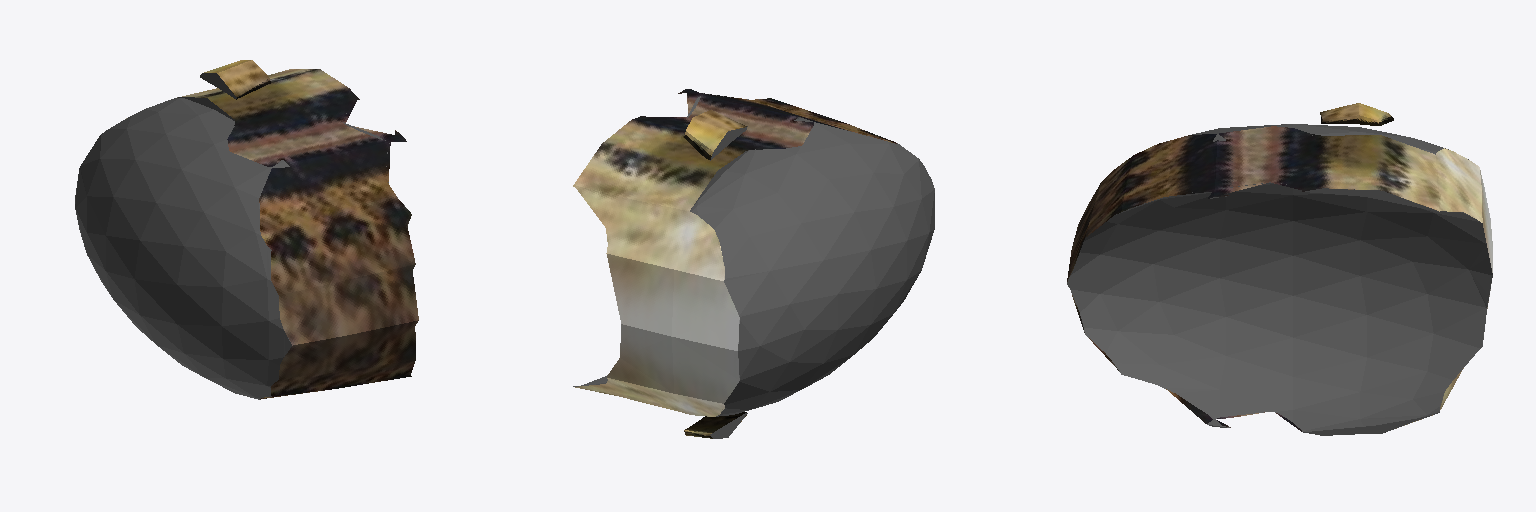
3 renders of one model, left to right at view 1: azimuth 30°, elevation 25°; view 2: azimuth 150°, elevation 25°; view 3: azimuth 270°, elevation 25°, orthographic.
Bounding box in the file's own units: 0.002 × 0.0026 × 0.0032.
1 materials, 1 textured.